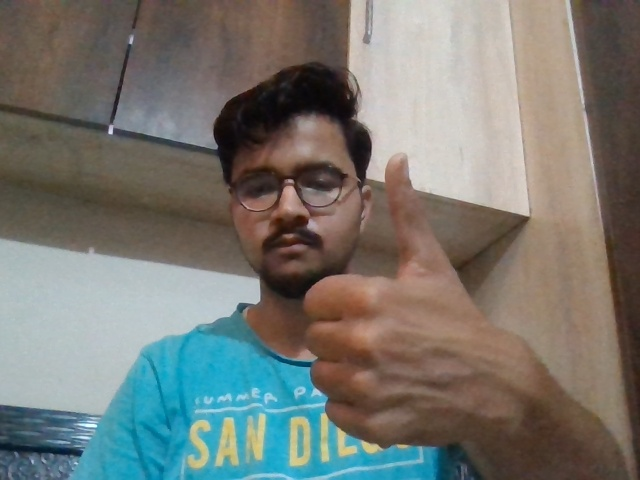yes: (297, 140, 509, 449)
